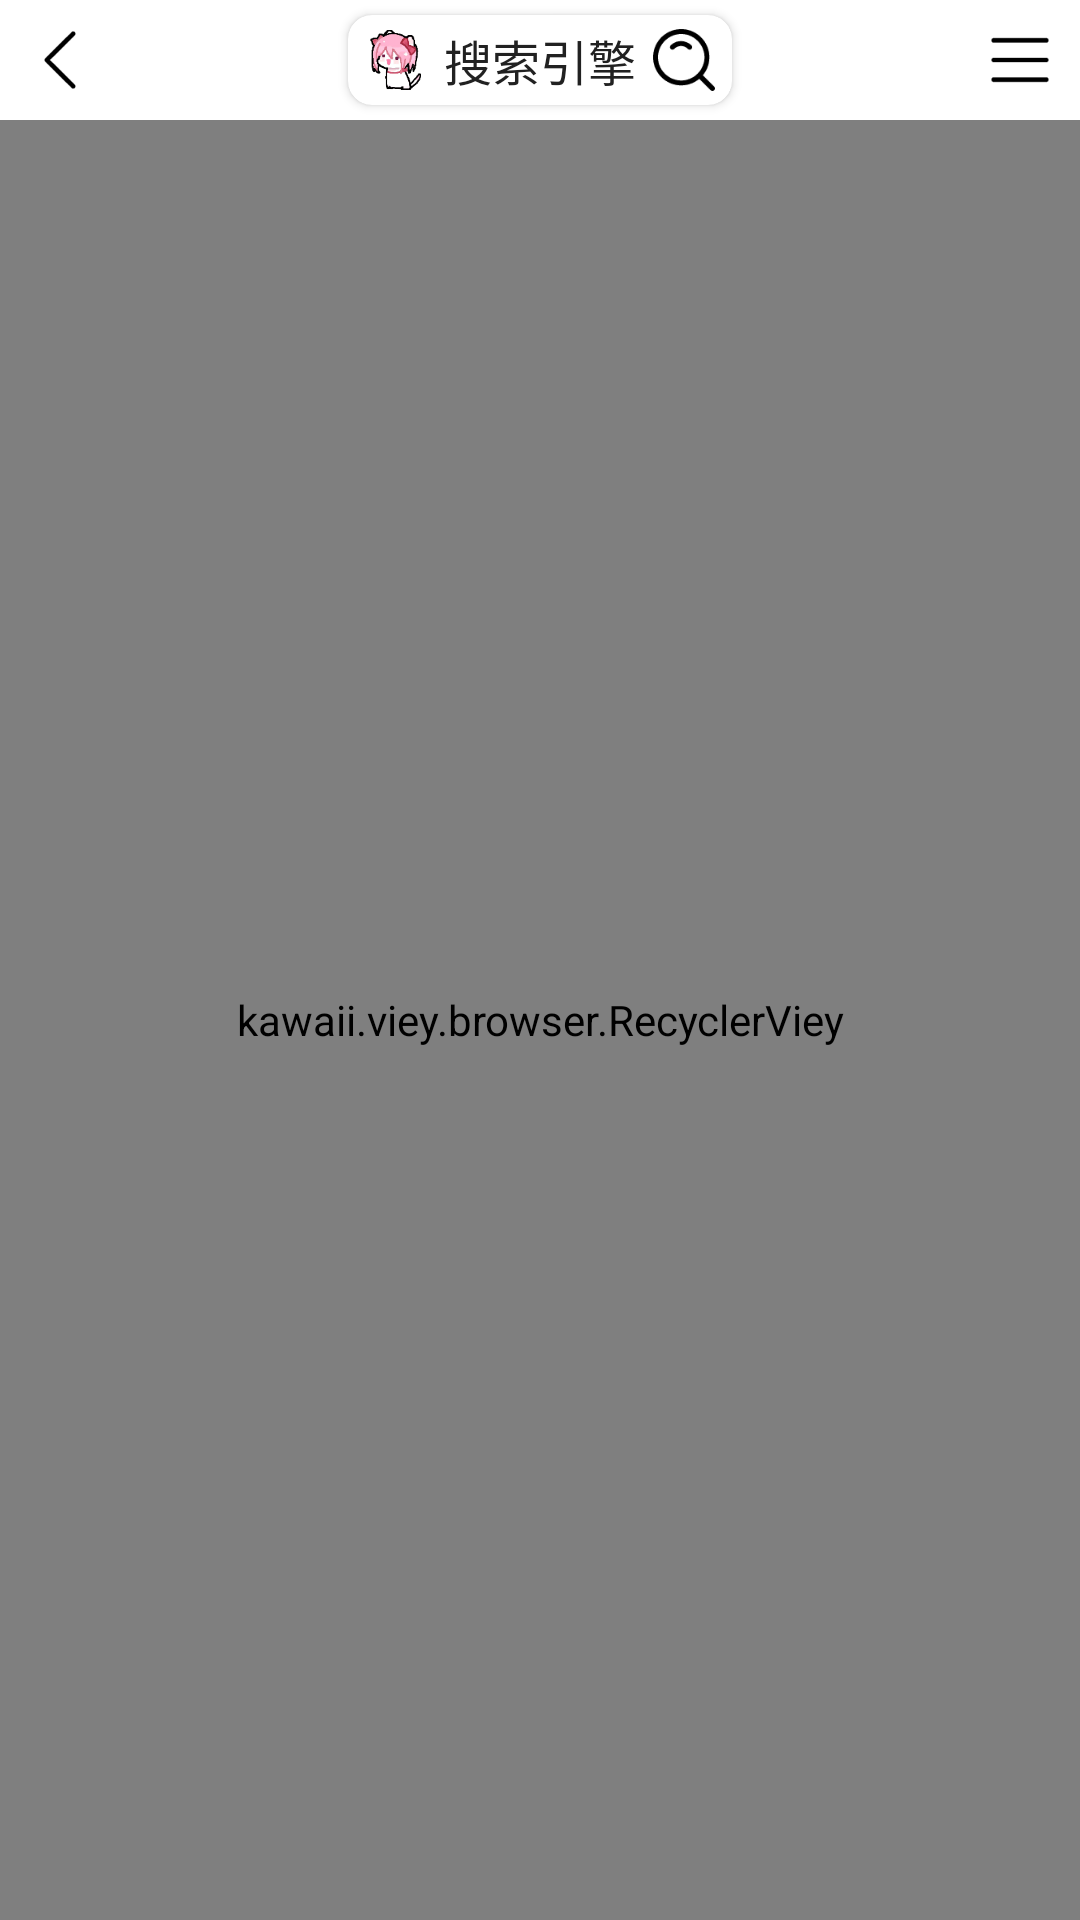

Named icons in this screenshot (1080×1920) and their bounding boxes, box=[x1, y1, x2, y2]:
arrow back: box=[44, 31, 76, 89]
menu: box=[991, 37, 1049, 83]
search: box=[653, 18, 732, 105]
